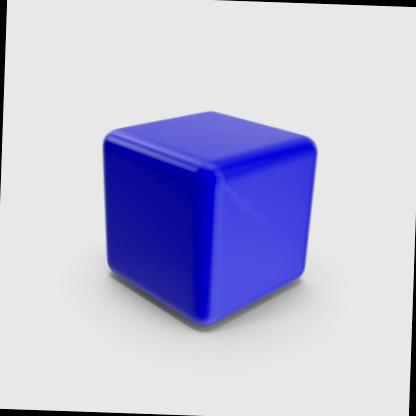blue_block: (58, 69, 342, 355)
